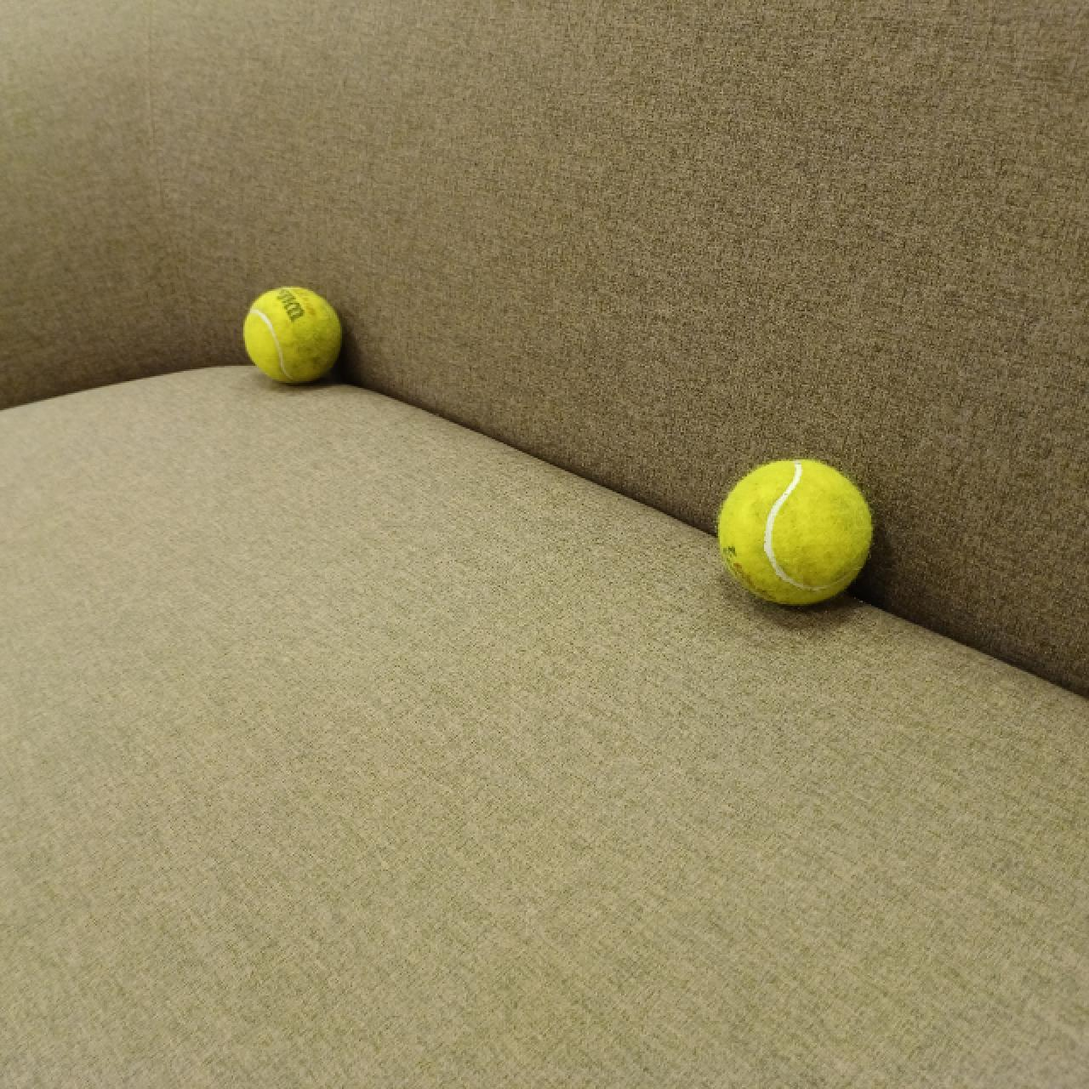tennis-ball: (715, 458, 875, 611), (241, 285, 343, 388)
